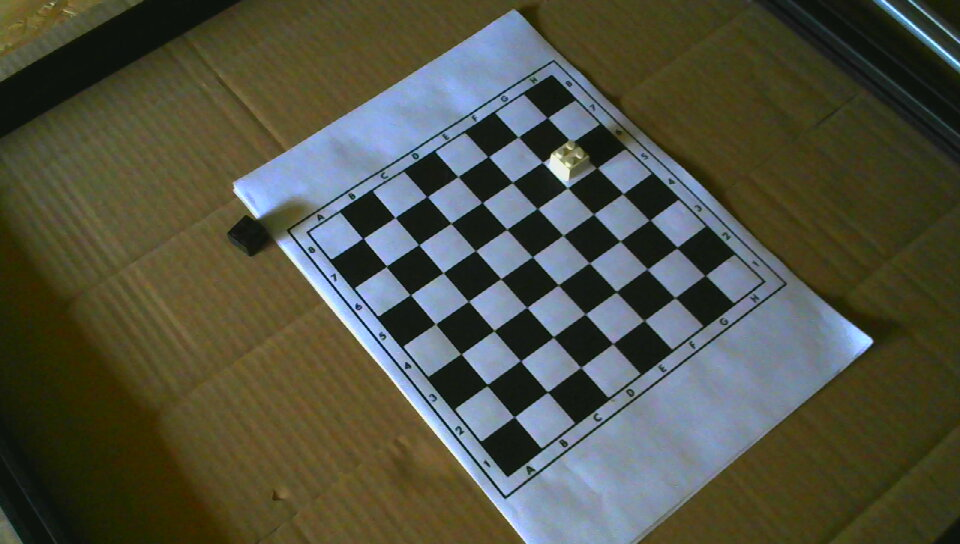bp: (227, 214, 268, 255)
wp: (550, 140, 591, 181)
